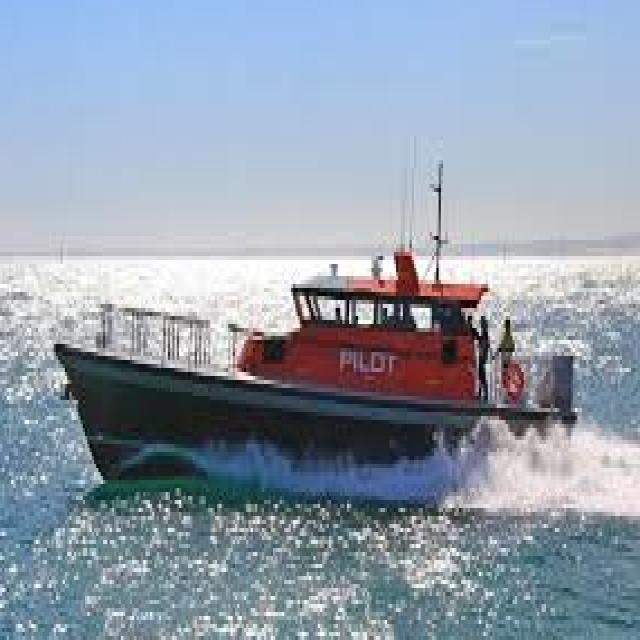houseboat: (52, 167, 575, 497)
